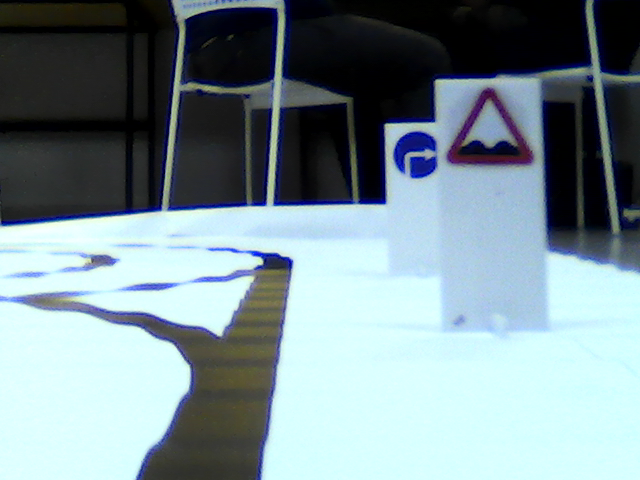Nerov: (445, 88, 536, 168)
Right: (392, 128, 437, 178)
